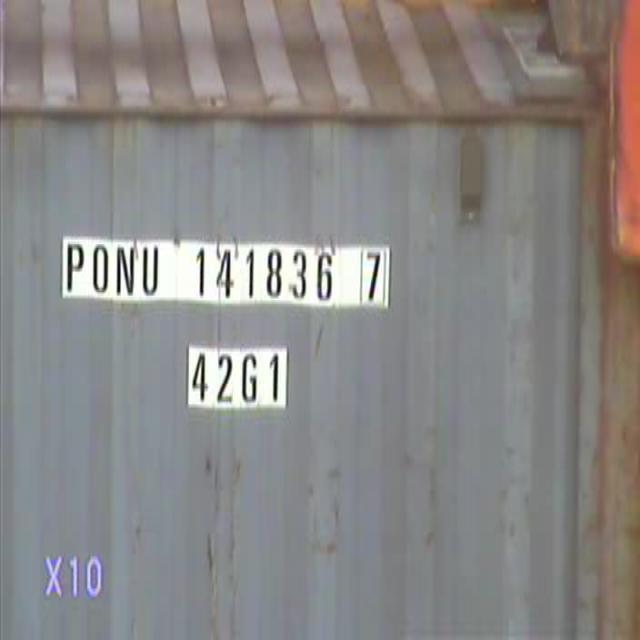container_number_h: (39, 210, 434, 454)
